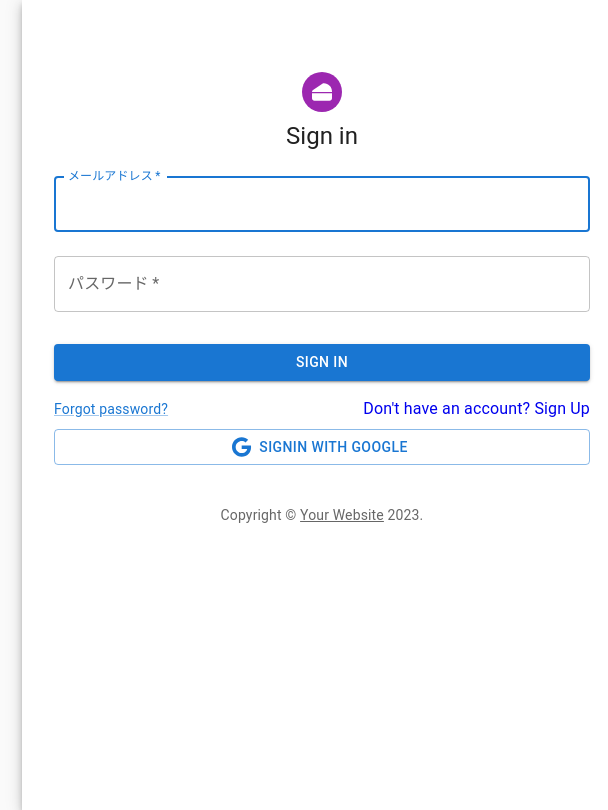
Test case: ログイン画面 › メールアドレス入力 › 必須チェック
This screenshot has width=608, height=810.
Click the button "Sign In" at (322, 362), box [54,344,590,380]
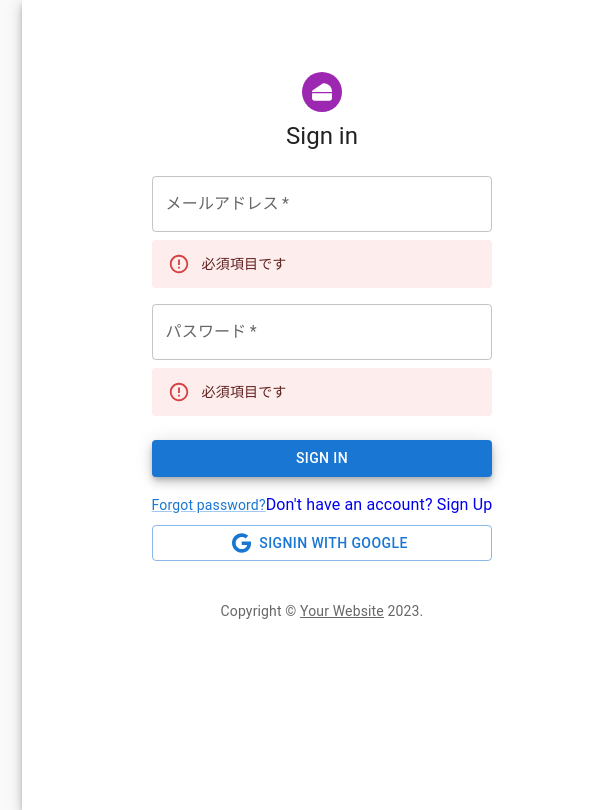
Expected: the 1st text "必須項目です" is shown, [202,256,286,272]
